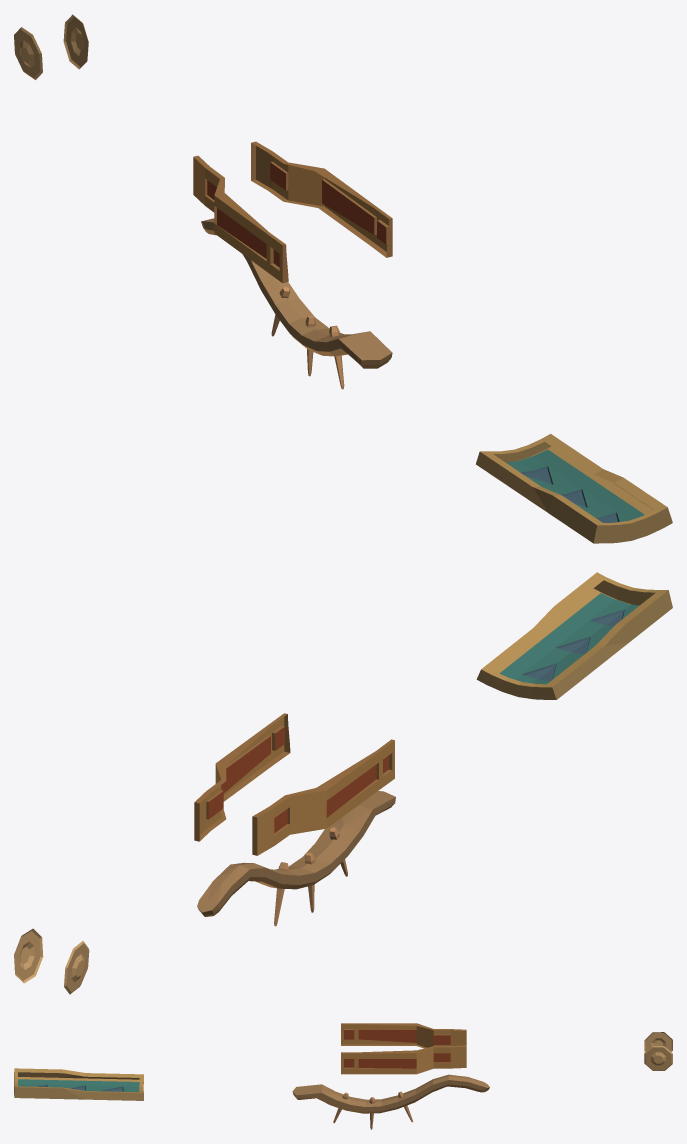
The model's file is largeCrossbowAztecHandle.glb.
3 renders of one model, top to bottom at view 1: azimuth 30°, elevation 25°; view 2: azimuth 150°, elevation 25°; view 3: azimuth 270°, elevation 25°, orthographic. The views are drawn at different scales.
Parts seen in each view (by area): view 1: largeCrossbowAztecHandle; view 2: largeCrossbowAztecHandle; view 3: largeCrossbowAztecHandle.
Part boxes in pixels (x1,y1,x2,y2): largeCrossbowAztecHandle: (14, 14, 672, 543); largeCrossbowAztecHandle: (14, 572, 672, 994); largeCrossbowAztecHandle: (14, 1023, 672, 1129).
Size of the model in its own units: 0.0986 by 0.1403 by 0.917.
